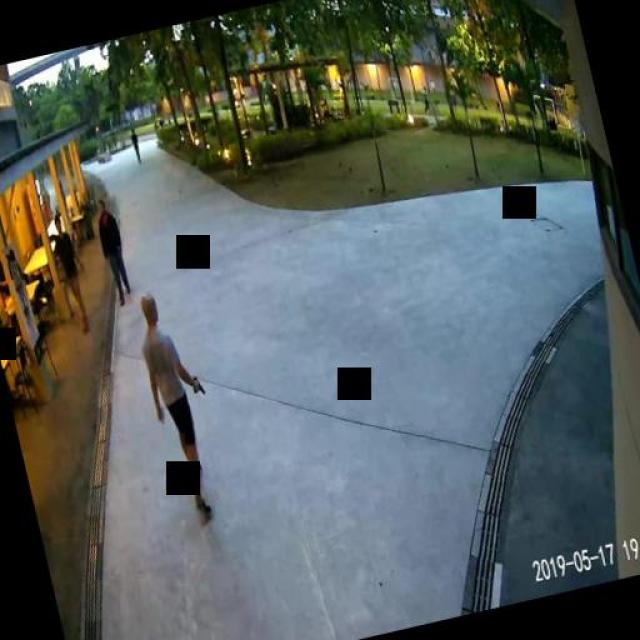gun: (187, 372, 205, 398)
